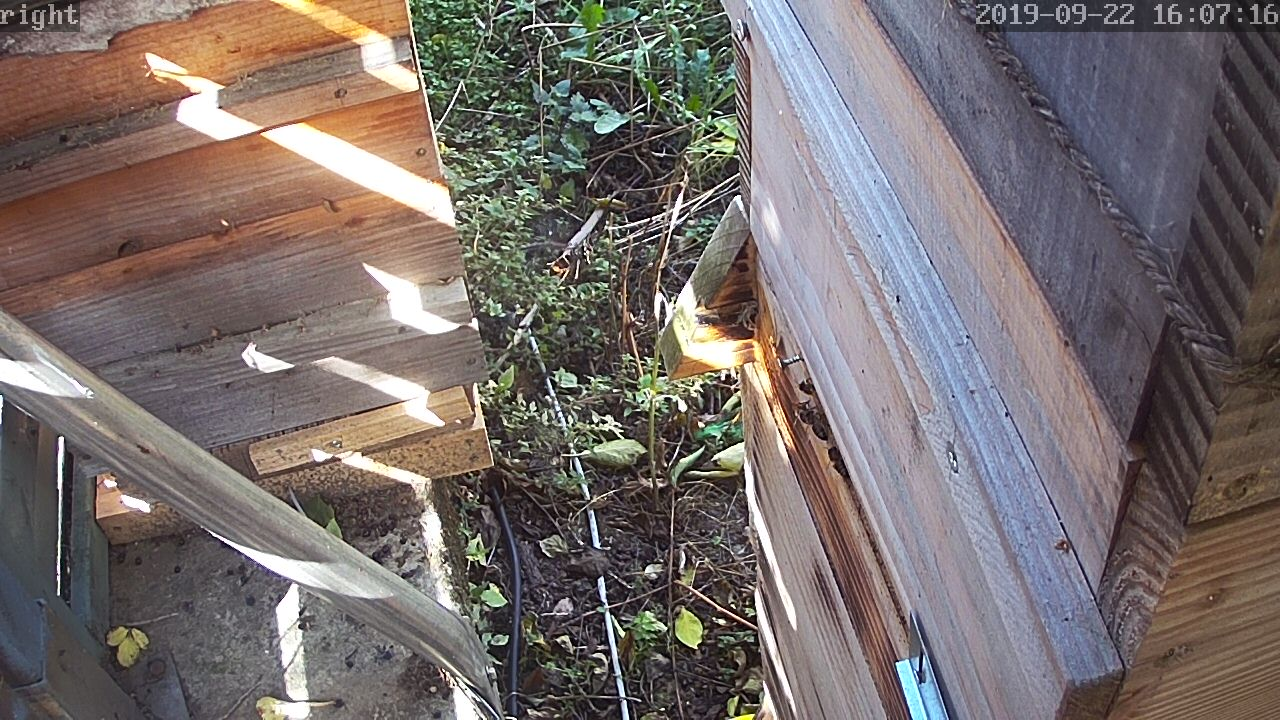bee: (789, 408, 832, 447), (823, 444, 854, 484), (793, 377, 821, 400)
hornet: (542, 241, 596, 284)
